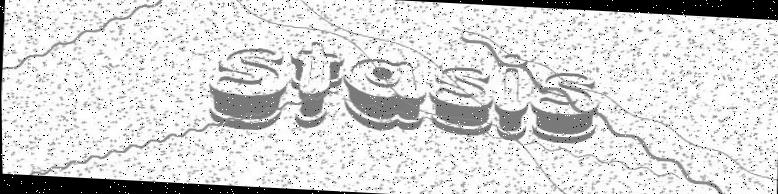a: (339, 53, 430, 135)
i: (492, 50, 532, 140)
s: (202, 41, 292, 134), (527, 67, 603, 146), (427, 62, 494, 134)
t: (284, 36, 347, 133)
